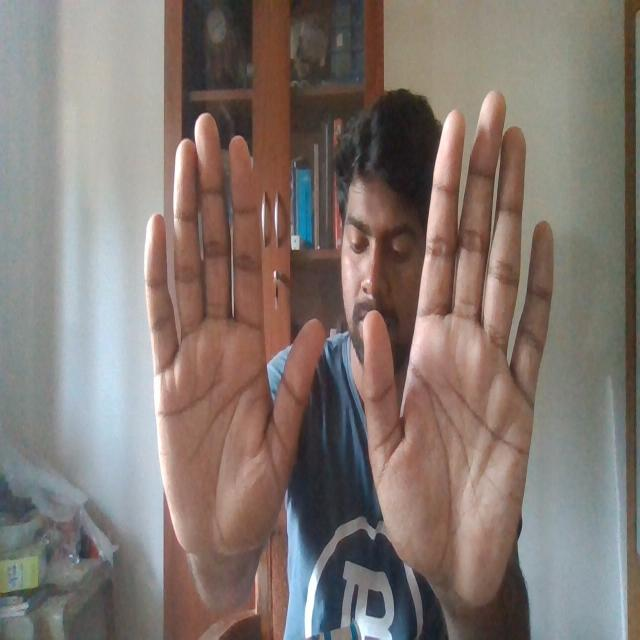ThankYou: (143, 82, 564, 597)
